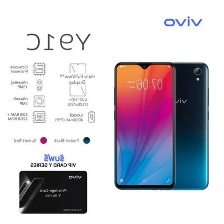book: (17, 169, 90, 215)
phone: (111, 59, 179, 193), (149, 61, 213, 192)
